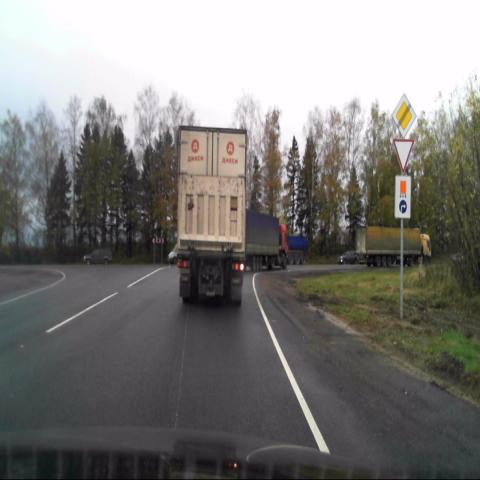4_8_3: (395, 175, 411, 218)
